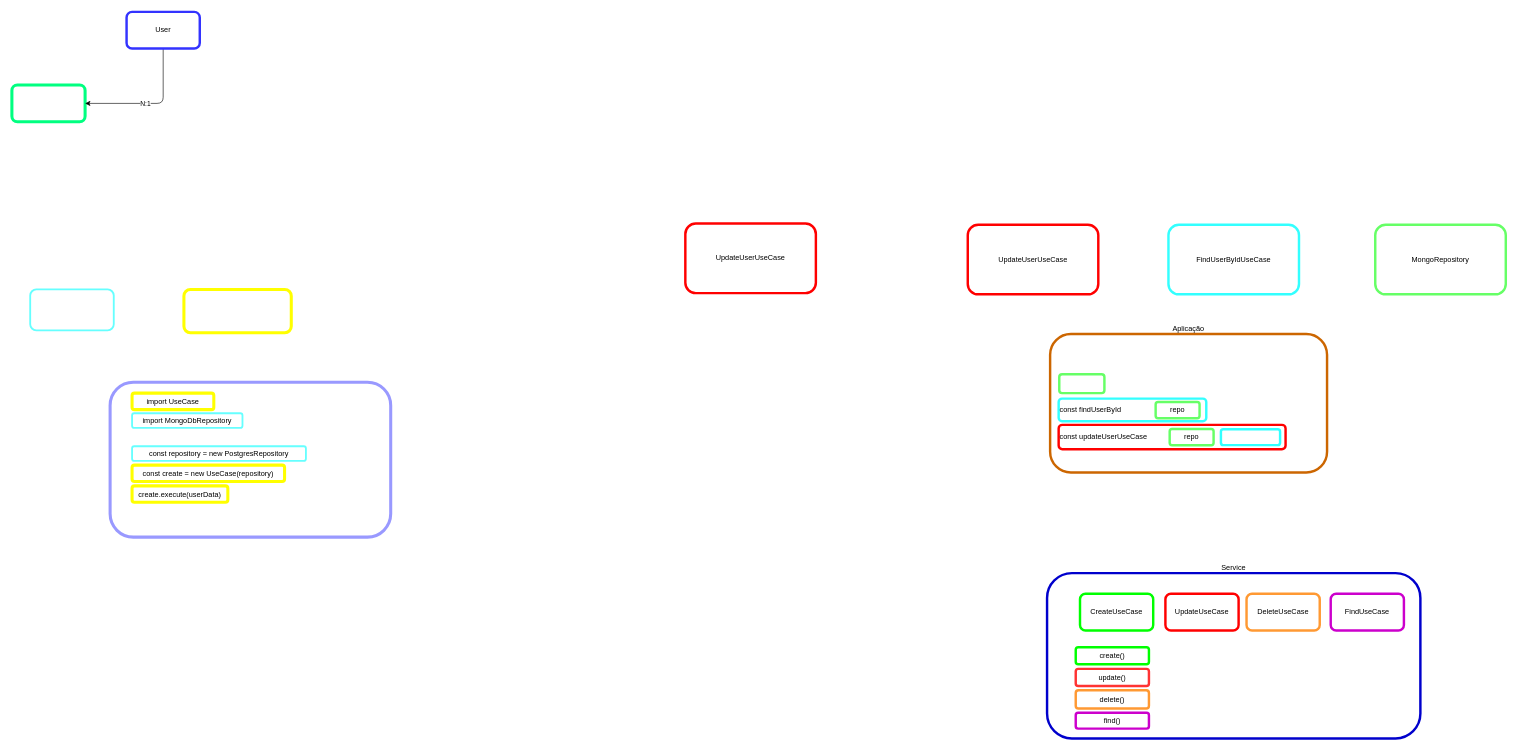
Some shapes in this 1518 by 750 pixel diagram are drawn without their labels. Here are the shapes that lost their labels. From the top down, the centre of each, then its label:
At pixel 48 103: "Personagem".
At pixel 71 309: "MongoDbRepository".
At pixel 237 311: "UseCase".
At pixel 1081 383: "const repo".
At pixel 1250 437: "findUserById".
